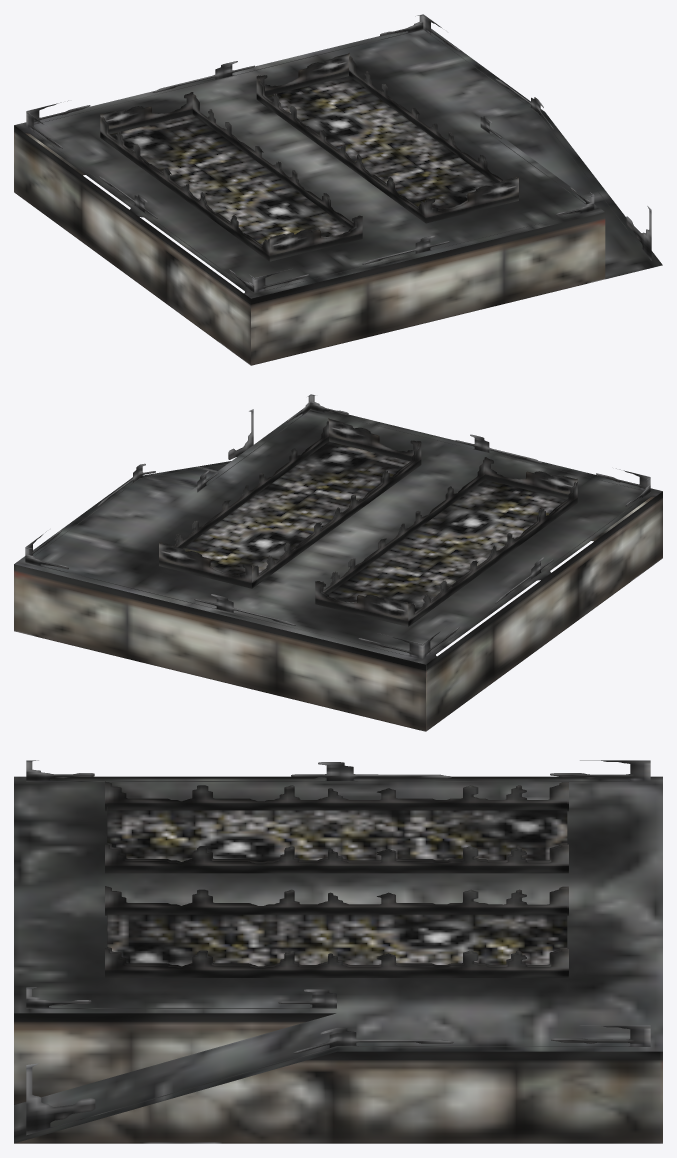
The model's file is transformerstation_dam.glb.
The picture shows the model from 3 angles, top to bottom: view 1: azimuth 30°, elevation 25°; view 2: azimuth 150°, elevation 25°; view 3: azimuth 270°, elevation 25°; orthographic projection. The views are drawn at different scales.
Visible parts, largest first — view 1: TransformerStation; view 2: TransformerStation; view 3: TransformerStation.
Boxes of the visible parts, x1,y1,x2,y2 form: TransformerStation: (14,14,662,365); TransformerStation: (14,394,662,731); TransformerStation: (14,760,662,1143).
Bounding box in the file's own units: 16.62 × 3.56 × 16.56.
1 material, 1 textured.
